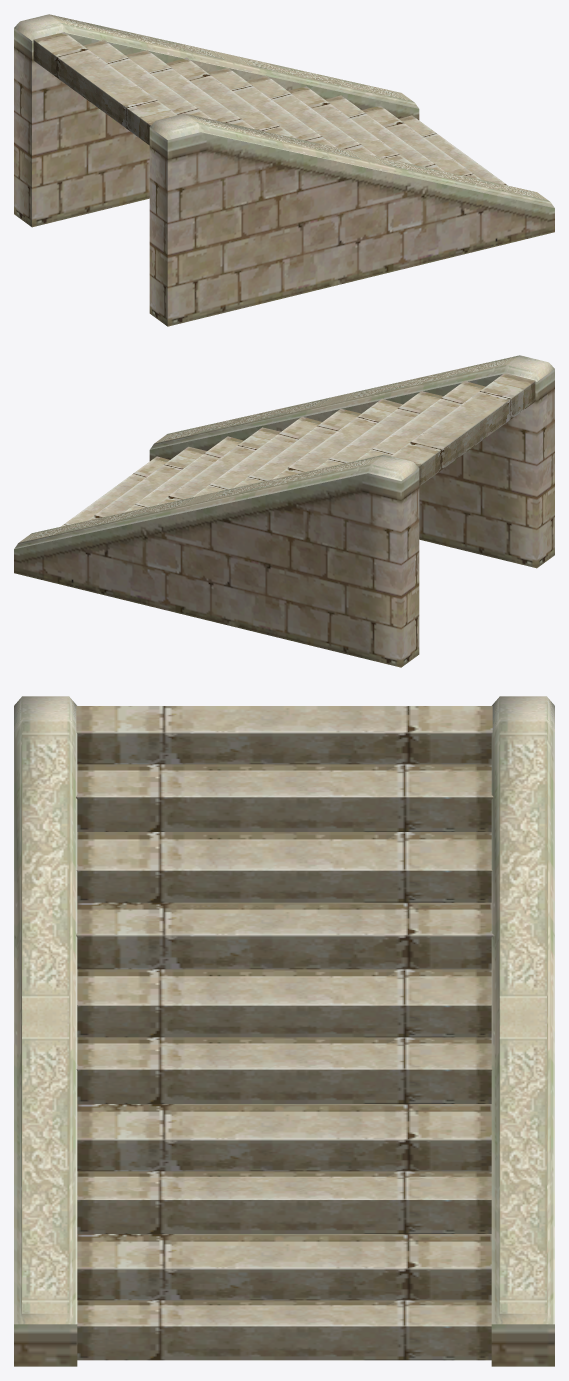
3 renders of one model, top to bottom at view 1: azimuth 30°, elevation 25°; view 2: azimuth 150°, elevation 25°; view 3: azimuth 270°, elevation 25°, orthographic. The views are drawn at different scales.
Parts seen in each view (by area): view 1: geom_node_0; view 2: geom_node_0; view 3: geom_node_0.
Boxes of the visible parts, <box> form: geom_node_0: <box>14,14,554,326</box>; geom_node_0: <box>14,355,554,667</box>; geom_node_0: <box>14,696,554,1366</box>.
Bounding box in the file's own units: 4.37 × 2.09 × 3.01.
Materials: 1 (1 with a texture image).
